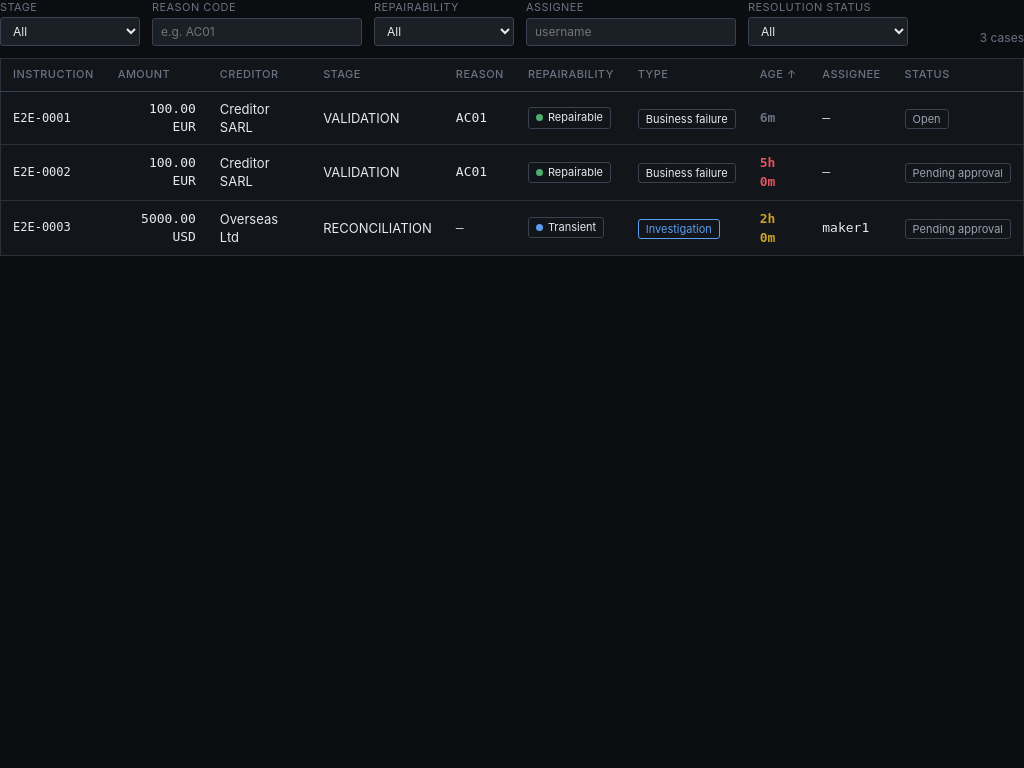
Test: ExceptionQueueScreen › navigates to the case detail screen when a row is clicked
The width and height of the screenshot is (1024, 768).
Click the row with test id "case-row" that starts with "E2E-0001": click(512, 118) [0,91,1023,145]
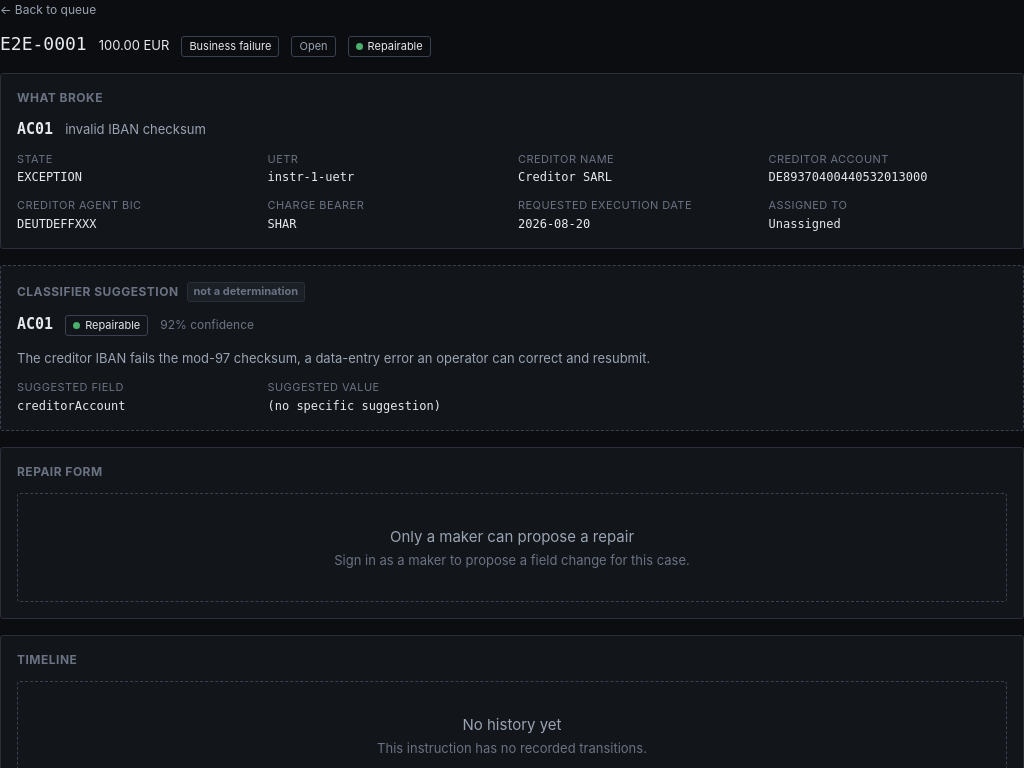
Now the heading "What broke" is shown, box [17,90,103,105]
